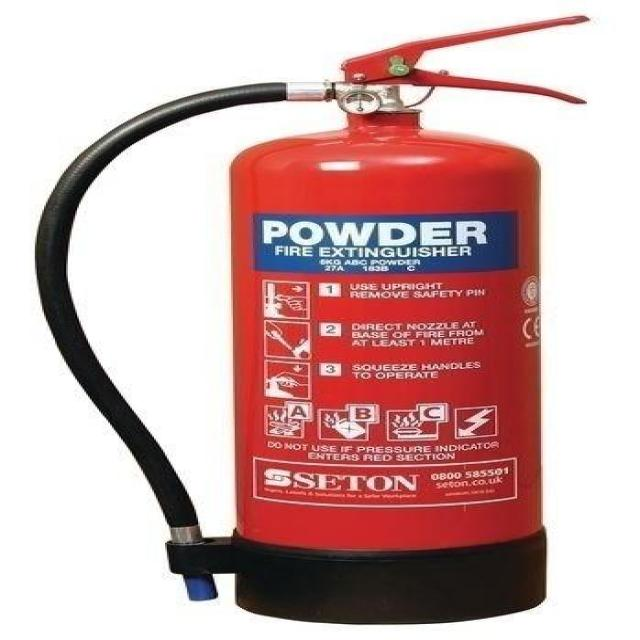fire_extinguisher: (24, 12, 598, 627)
